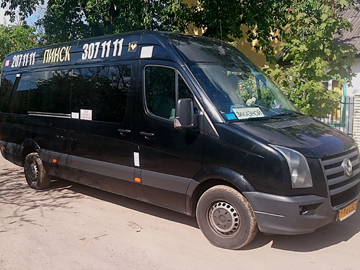van: (4, 31, 358, 249)
